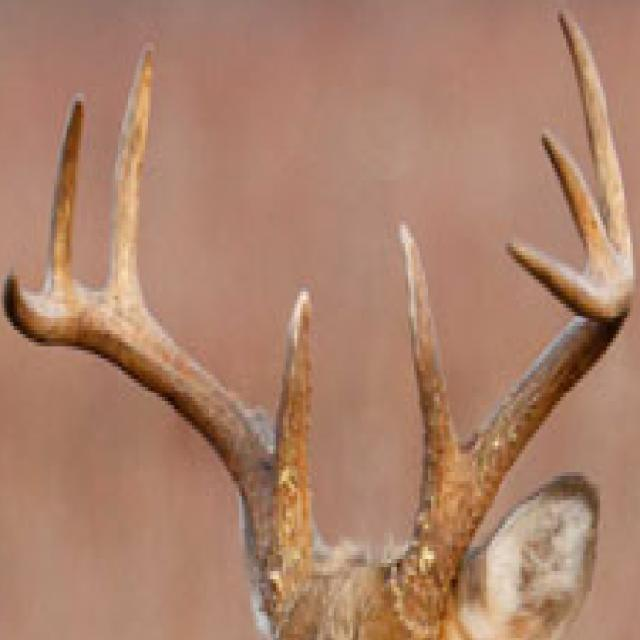L-F: (400, 241, 631, 635)
L-G1: (399, 223, 460, 508)
R-F: (3, 276, 312, 637)
R-G1: (276, 288, 311, 505)
R-G2: (108, 44, 157, 309)
R-G3: (45, 97, 86, 292)
